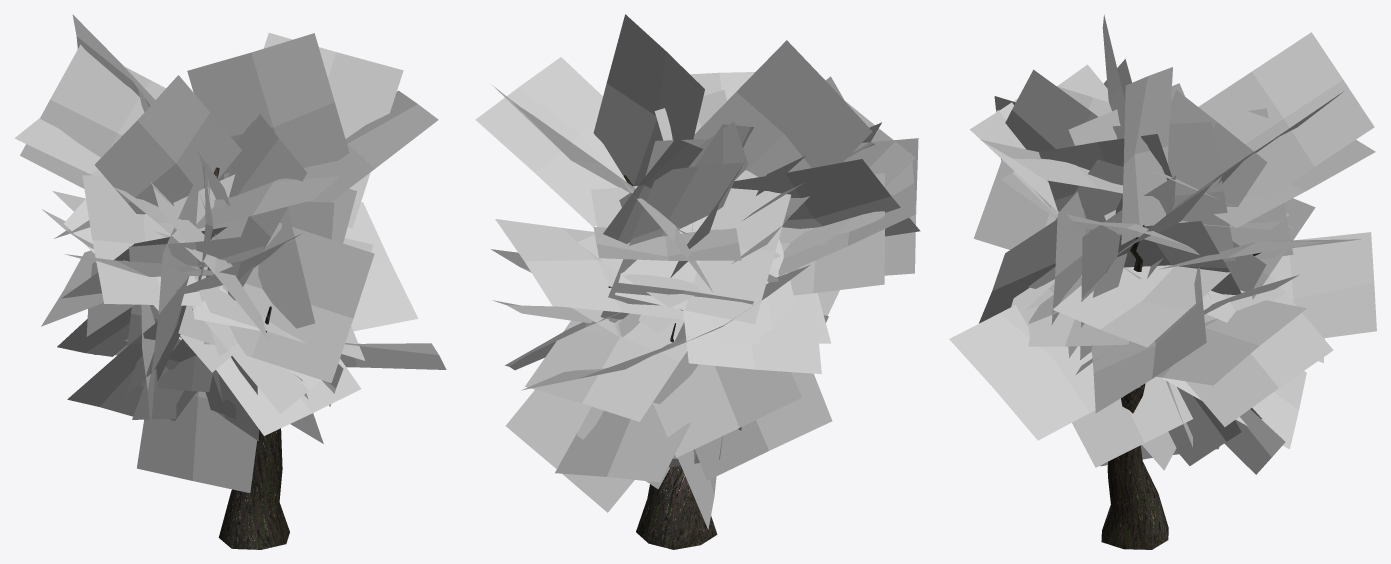
File: MenuTree.fbx
3 views of the same model, side by side, from view 1: azimuth 30°, elevation 25°; view 2: azimuth 150°, elevation 25°; view 3: azimuth 270°, elevation 25° (orthographic). The views are drawn at different scales.
Visible parts, largest first — view 1: Cube; view 2: Cube; view 3: Cube.
Part boxes in pixels (box(x1,y1,x2,y2)): Cube: box(14, 14, 446, 549); Cube: box(475, 14, 920, 549); Cube: box(949, 14, 1376, 549).
Size of the model in its own units: 673 by 829 by 673.
